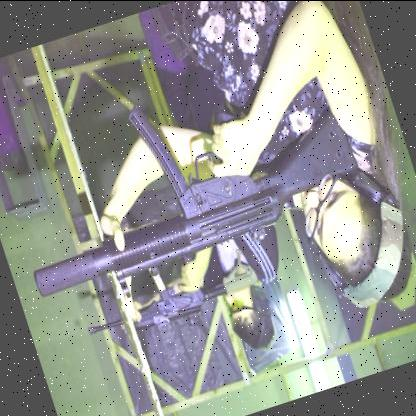rifle: (0, 54, 367, 314), (71, 235, 266, 356)
